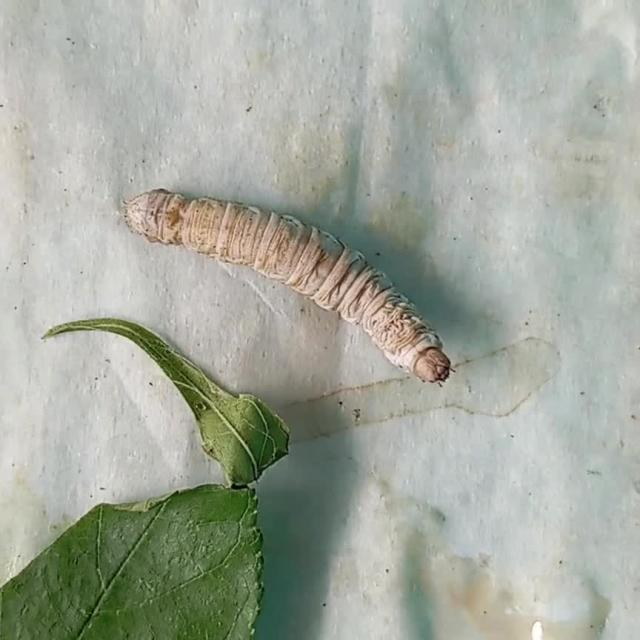Grasserie: (95, 151, 486, 430)
